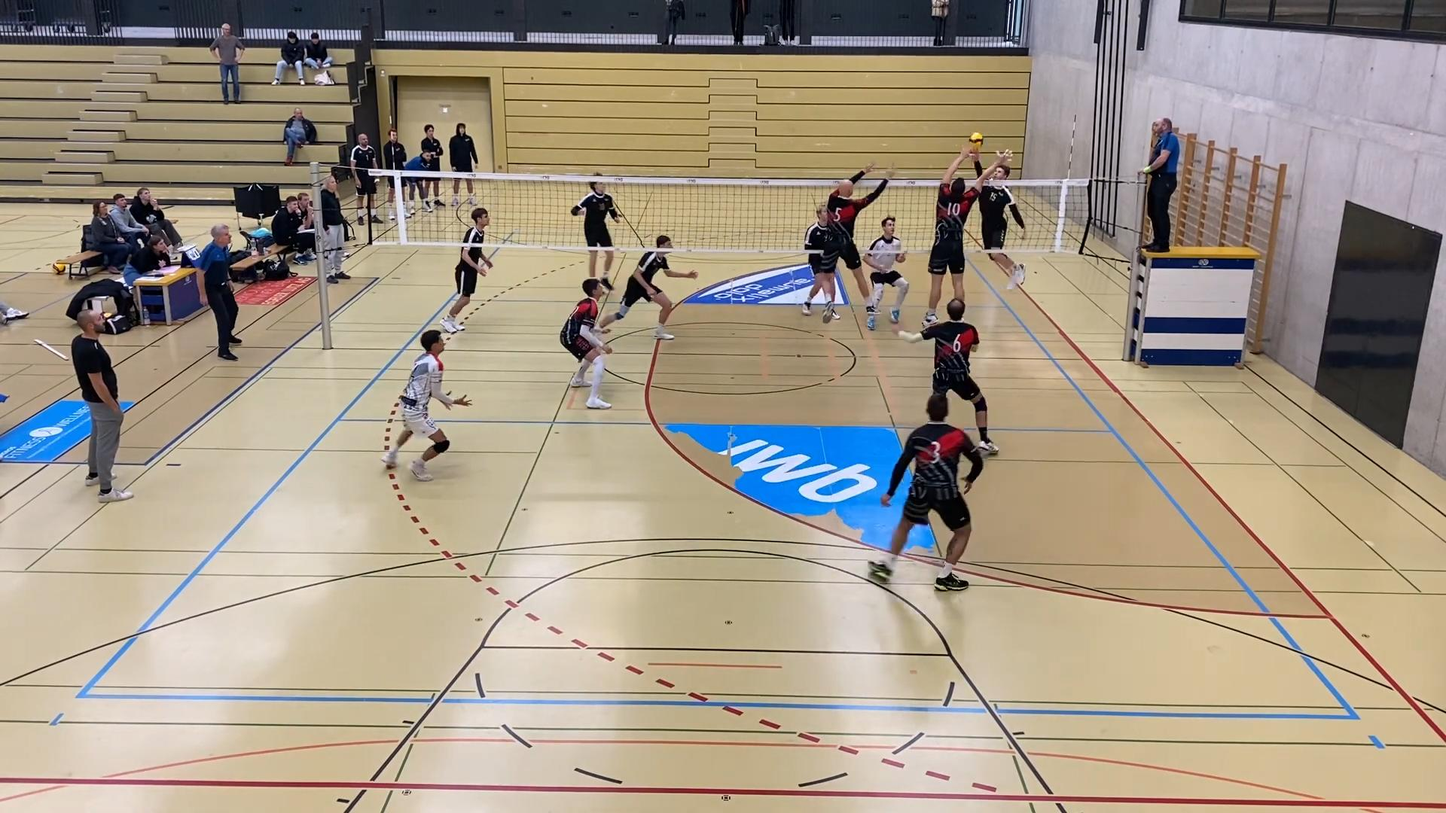Attack: (969, 149, 1034, 292)
Block: (926, 142, 1011, 334), (804, 157, 902, 321), (964, 130, 986, 150)
Player: (870, 394, 983, 590), (895, 299, 998, 454), (382, 330, 470, 480), (599, 236, 697, 340), (560, 278, 612, 409), (441, 207, 492, 333), (802, 205, 849, 323), (863, 216, 908, 330), (571, 181, 618, 290)
